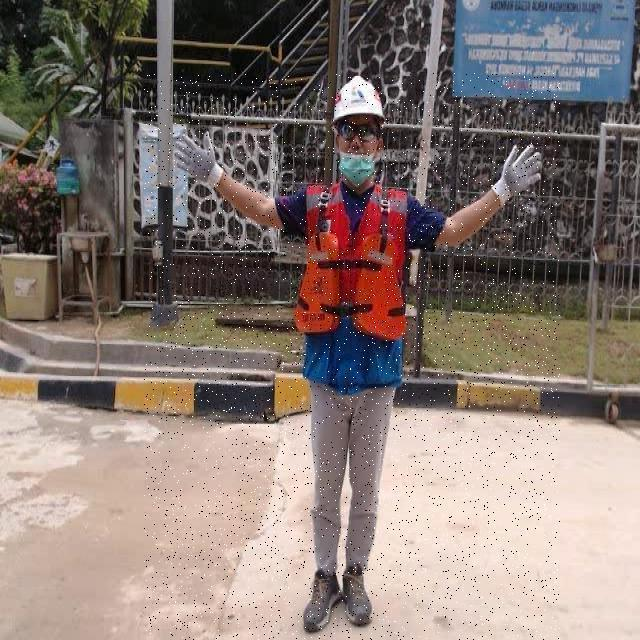gloves: (490, 143, 541, 209), (173, 128, 226, 187)
goggles: (337, 124, 379, 143)
helmet: (330, 76, 384, 128)
safety_vest: (291, 183, 410, 387)
